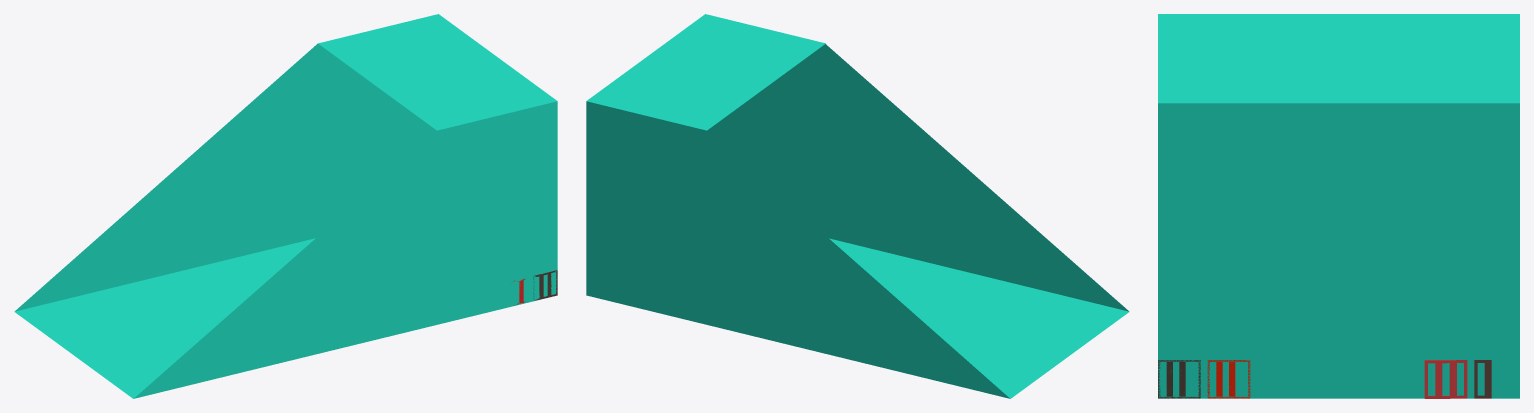
The model's file is scenariopainted.glb.
3 renders of one model, left to right at view 1: azimuth 30°, elevation 25°; view 2: azimuth 150°, elevation 25°; view 3: azimuth 270°, elevation 25°, orthographic. The views are drawn at different scales.
Parts seen in each view (by area): view 1: Plane.008; view 2: Plane.008; view 3: Plane.008.
Part boxes in pixels (x1,y1,x2,y2): Plane.008: (14,14,557,398); Plane.008: (586,14,1129,398); Plane.008: (1158,14,1519,398).
Bounding box in the file's own units: 207 × 90.39 × 100.
